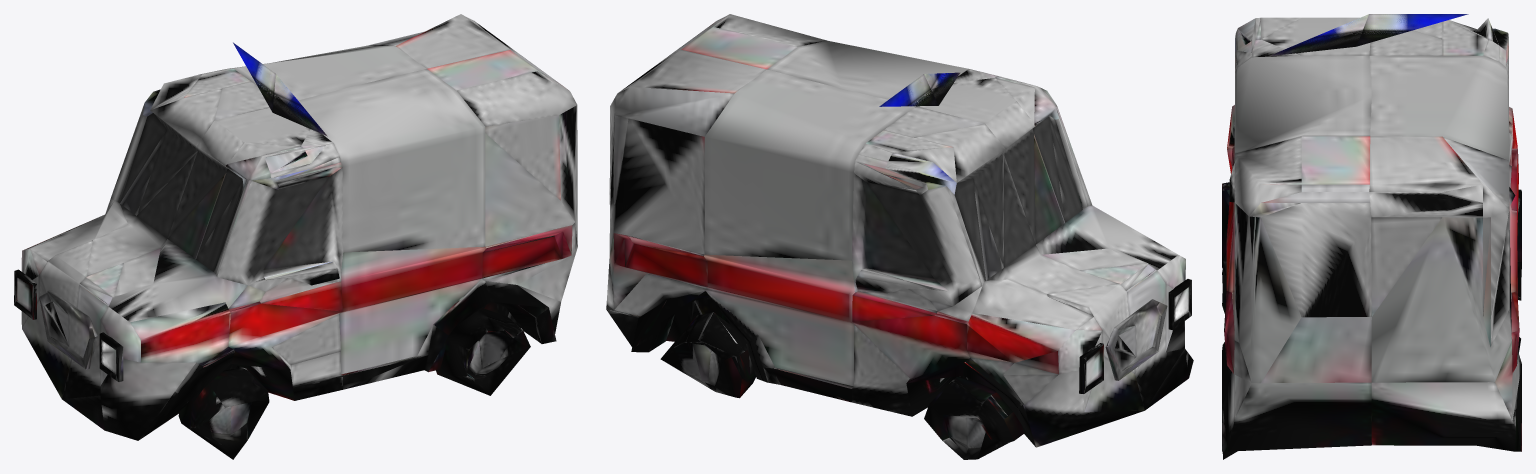
Rendered from 51-ambulance.glb.
3 renders of one model, left to right at view 1: azimuth 30°, elevation 25°; view 2: azimuth 150°, elevation 25°; view 3: azimuth 270°, elevation 25°, orthographic. The views are drawn at different scales.
Parts seen in each view (by area): view 1: geometry_0; view 2: geometry_0; view 3: geometry_0.
Boxes of the visible parts, x1=… form: geometry_0: x1=14, y1=14, x2=577, y2=459; geometry_0: x1=606, y1=14, x2=1193, y2=459; geometry_0: x1=1222, y1=14, x2=1521, y2=459.
Size of the model in its own units: 0.9355 by 0.6059 by 0.4526.
Materials: 1 (1 with a texture image).
